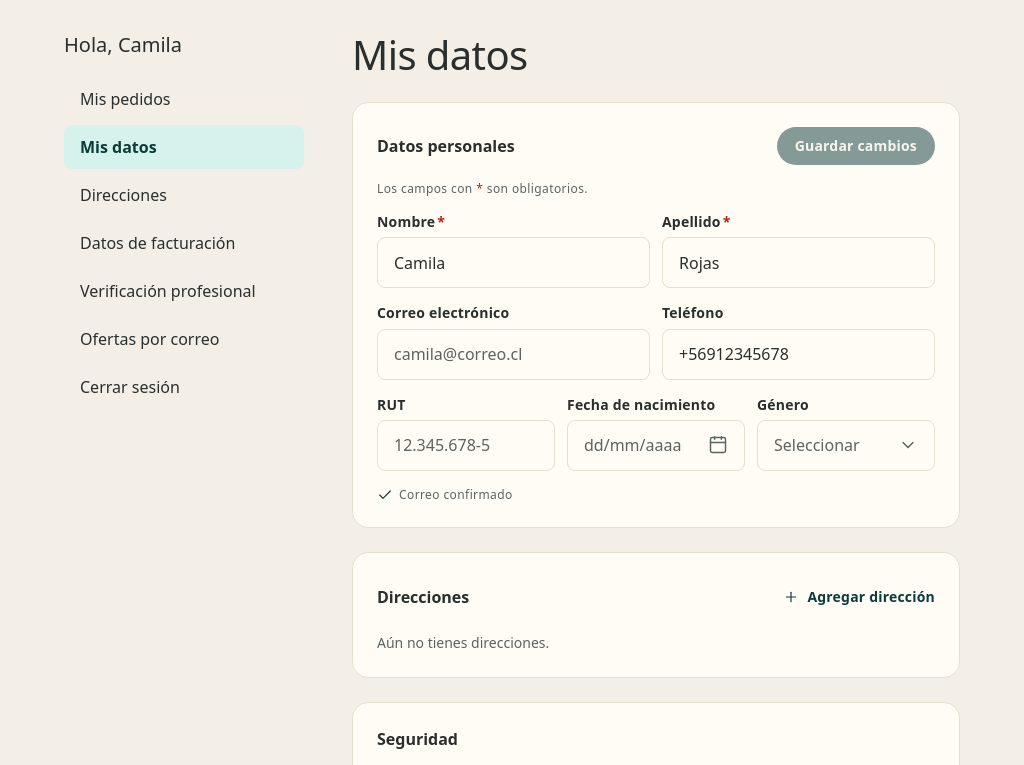
Test case: SCRUM-97 · Mis datos › E1-H5 FE · editar datos: guarda solo lo que cambió y muestra los datos actualizados
This screenshot has width=1024, height=765.
Expected: the field labelled "Nombre *" holds "Camila", [377,237,650,288]
Expected: the button "Guardar cambios" is disabled, [777,127,935,165]
Replace the text in the field labelled "Apellido *" with "Rojas Soto": (798, 263) [662,237,935,288]
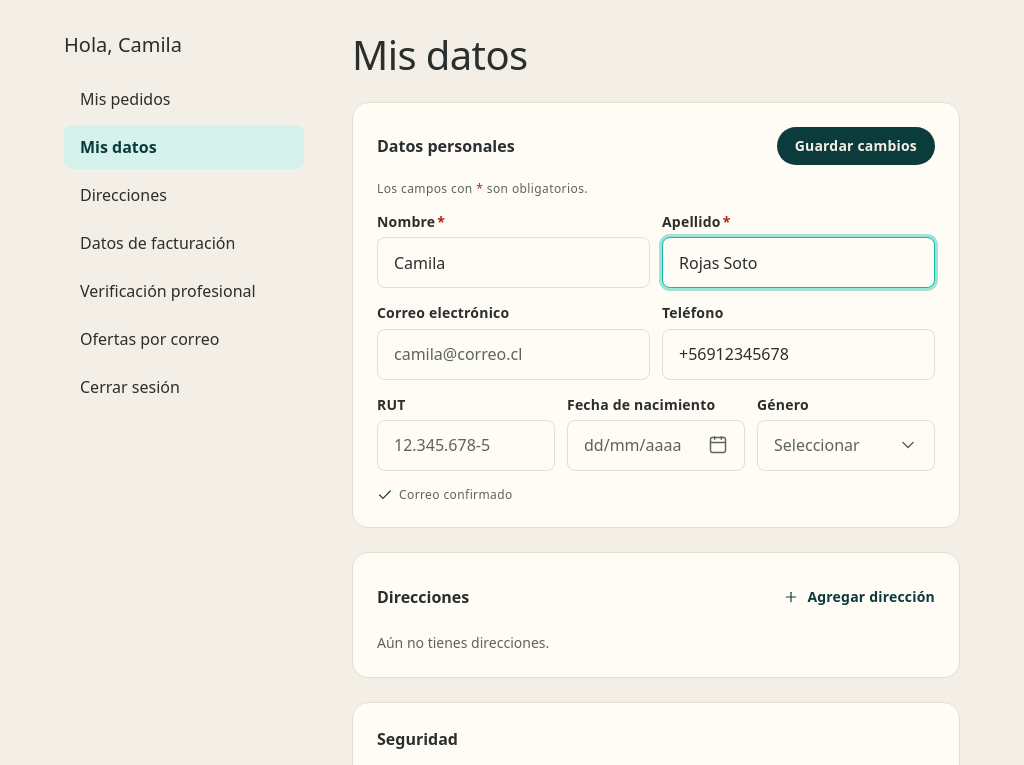
Click the button "Guardar cambios": (856, 146) [777,127,935,165]
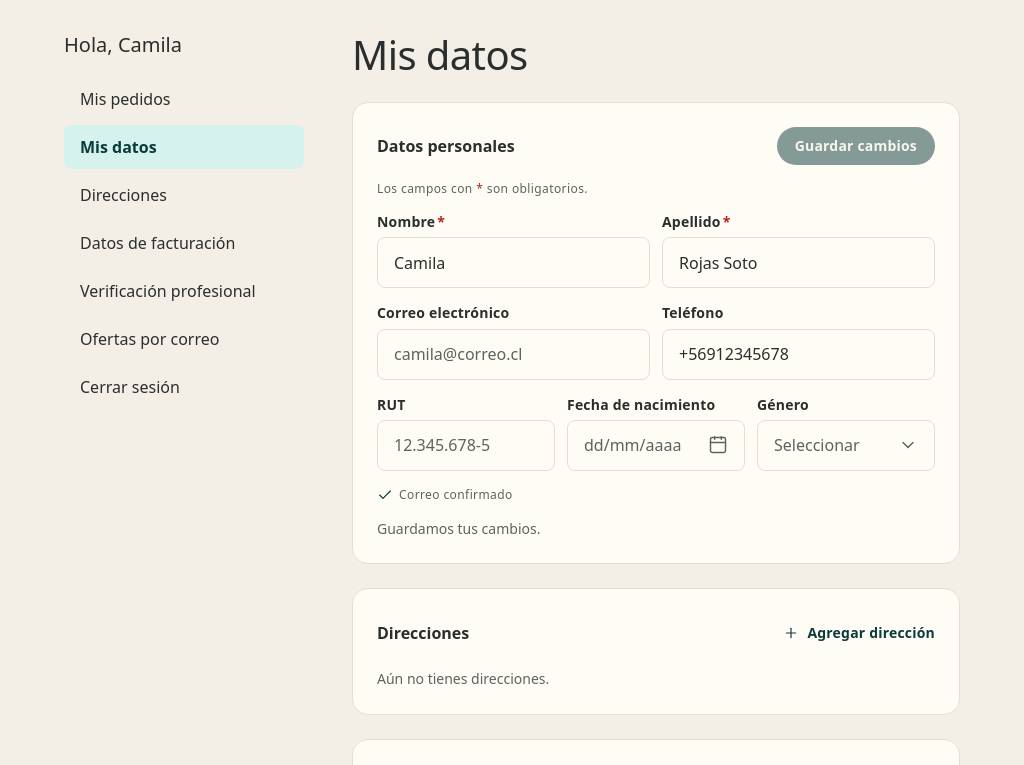
Now the message reads "Guardamos tus cambios.", box [377,519,540,538]
Now the button "Guardar cambios" is disabled, box [777,127,935,165]
